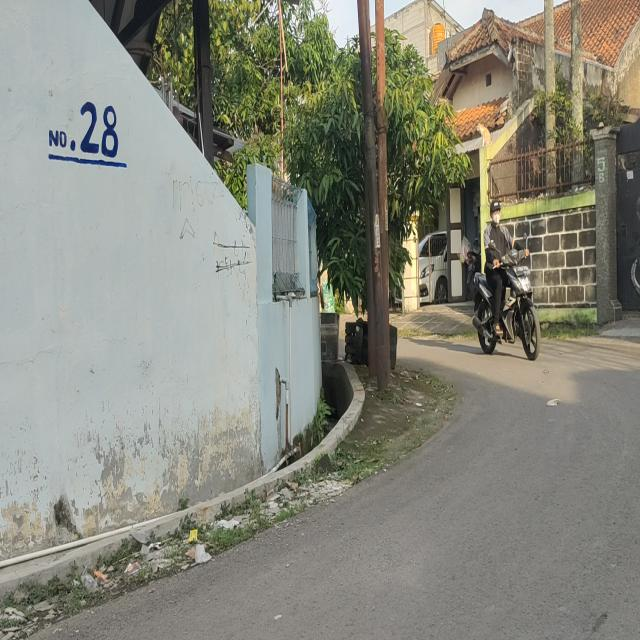no-helmet: (490, 197, 503, 226)
